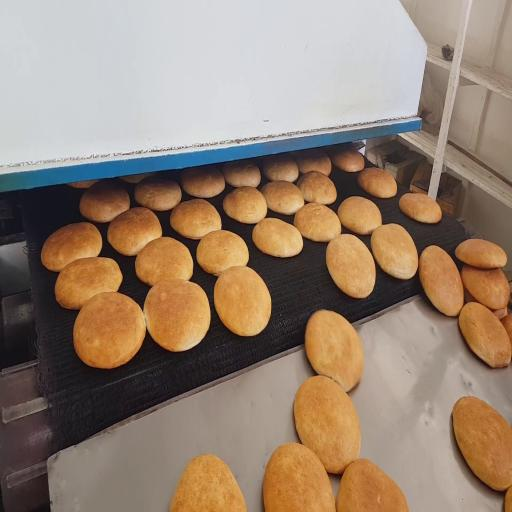bread: (294, 376, 360, 474), (453, 397, 511, 491), (74, 293, 145, 368), (263, 443, 335, 511), (144, 279, 210, 351), (305, 311, 363, 392), (170, 455, 246, 511), (214, 266, 271, 336), (336, 459, 408, 511), (55, 257, 122, 309), (459, 302, 511, 367), (326, 234, 375, 298), (419, 246, 463, 316), (41, 223, 102, 272), (135, 237, 193, 286), (108, 207, 162, 255), (371, 224, 418, 279), (197, 230, 249, 275), (461, 266, 510, 310), (80, 181, 130, 222), (170, 199, 221, 239), (253, 218, 303, 257), (294, 203, 341, 242), (338, 196, 381, 235), (135, 176, 181, 211), (223, 187, 267, 223), (455, 239, 507, 268), (262, 181, 304, 215), (182, 166, 225, 198), (297, 171, 336, 204), (399, 193, 441, 223), (358, 168, 397, 198), (222, 161, 260, 187), (263, 155, 298, 182), (295, 151, 331, 176), (331, 147, 364, 172), (120, 173, 154, 183), (501, 315, 511, 344), (68, 180, 98, 189), (490, 307, 507, 319), (505, 487, 511, 511)
